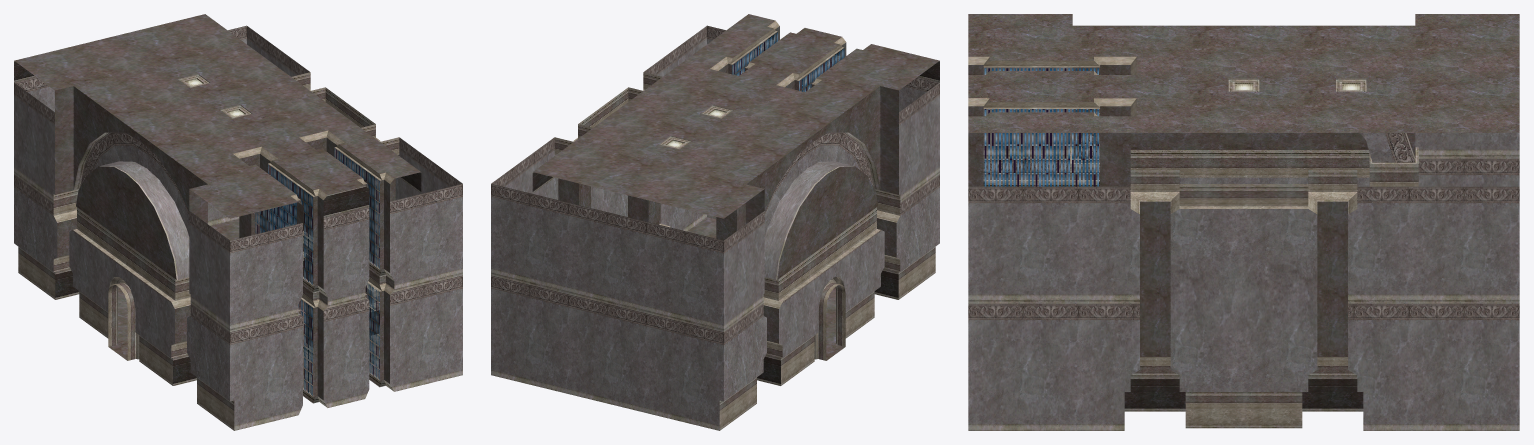
Rendered from ply_tato_capitol_s01_r5_library_mesh_r5.fbx.
3 renders of one model, left to right at view 1: azimuth 30°, elevation 25°; view 2: azimuth 150°, elevation 25°; view 3: azimuth 270°, elevation 25°, orthographic. The views are drawn at different scales.
Parts seen in each view (by area): view 1: mesh_node; view 2: mesh_node; view 3: mesh_node.
Part boxes in pixels (x1,y1,x2,y2): mesh_node: (14,14,462,430); mesh_node: (491,14,939,430); mesh_node: (968,14,1519,430).
Bounding box in the file's own units: 11.4 × 9.8 × 18.
